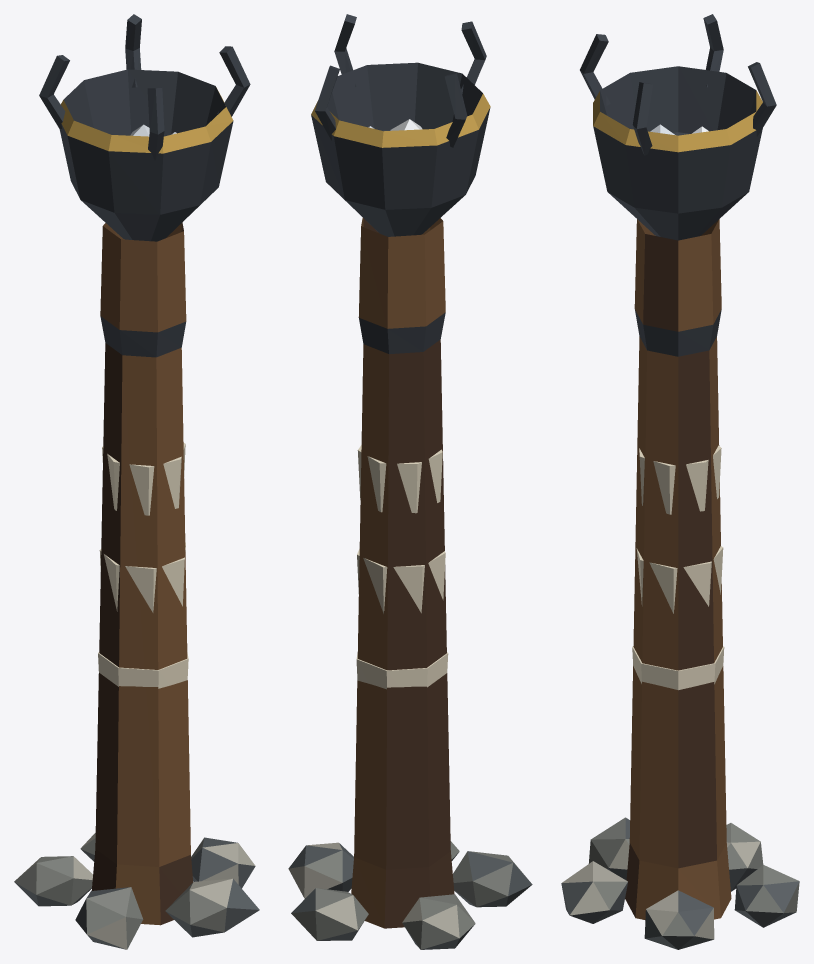
The model's file is Torch.obj.
3 views of the same model, side by side, from view 1: azimuth 30°, elevation 25°; view 2: azimuth 150°, elevation 25°; view 3: azimuth 270°, elevation 25° (orthographic).
Size of the model in its own units: 0.92 by 3.83 by 0.958.
